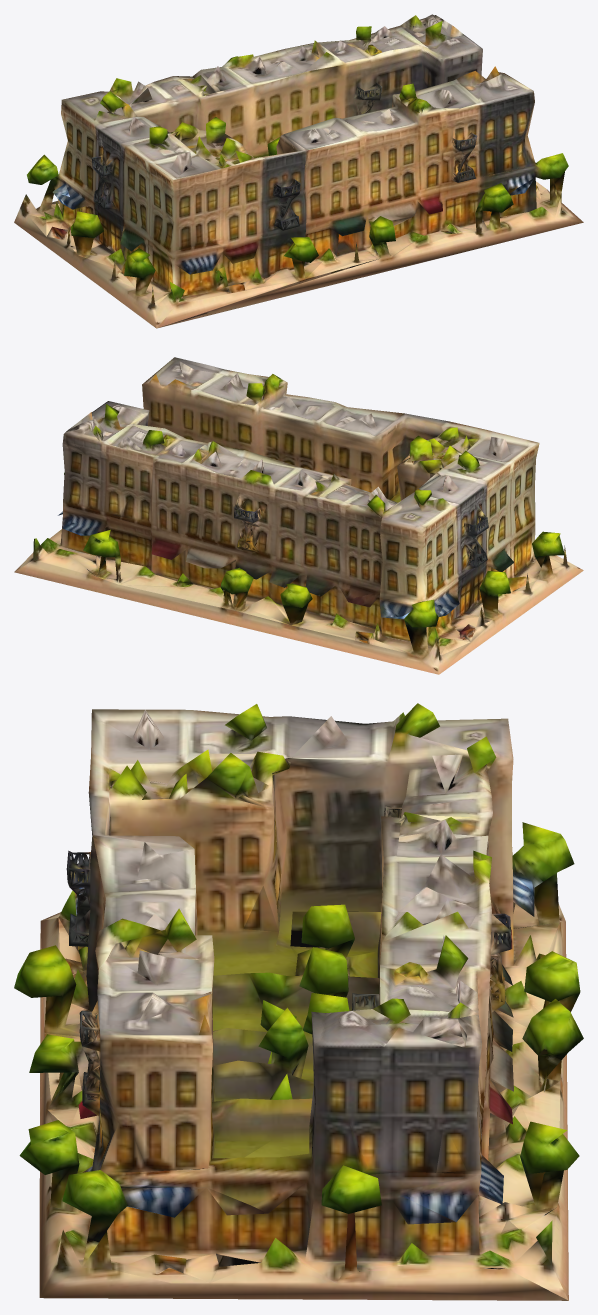
Rendered from block-soho-a.far.glb.
3 renders of one model, top to bottom at view 1: azimuth 30°, elevation 25°; view 2: azimuth 150°, elevation 25°; view 3: azimuth 270°, elevation 25°, orthographic. The views are drawn at different scales.
Visible parts, largest first — view 1: low; view 2: low; view 3: low.
Boxes of the visible parts, x1,y1,x2,y2 form: low: (14,14,583,328); low: (14,357,583,674); low: (14,703,583,1300).
Bounding box in the file's own units: 0.979 × 0.3078 × 0.5969.
Materials: 1 (1 with a texture image).
